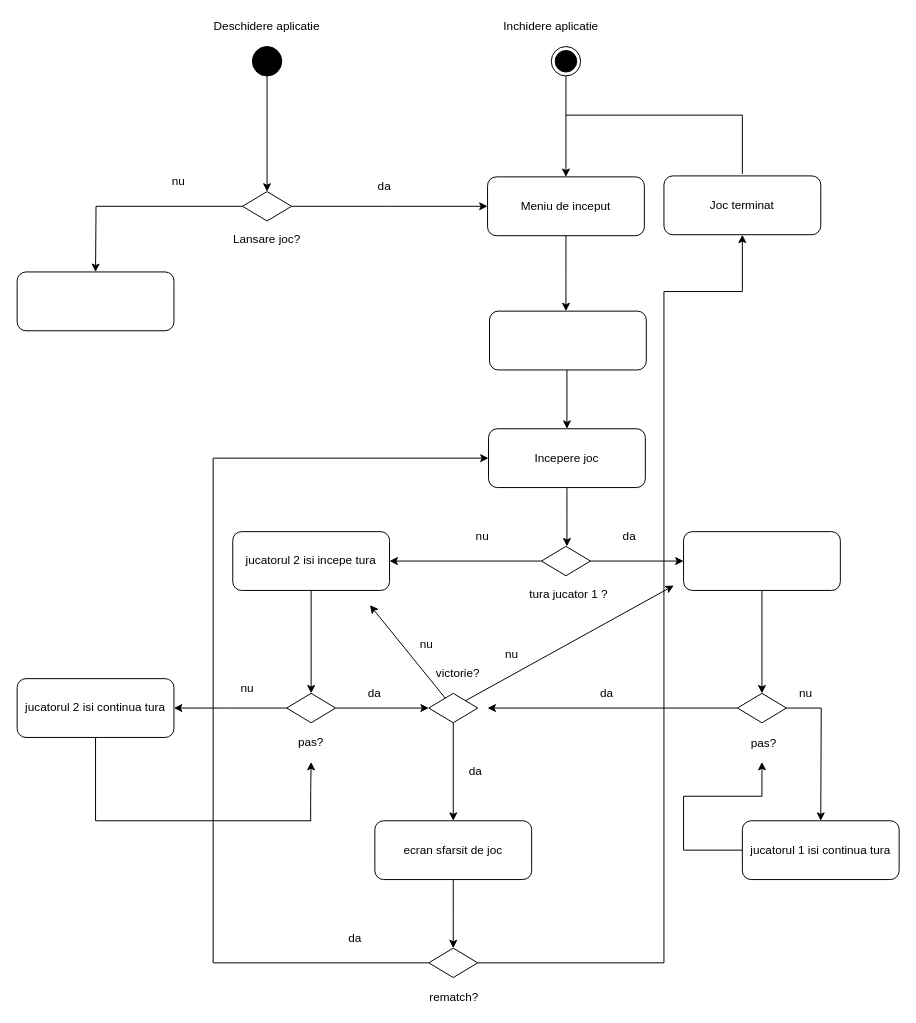
Image size: 916x1023. Some labels were removed from this diagram. The shapes that lost their labels are listed below. From the top down, each one's box as (x1, y1, x2, y2) in pixels, then its label:
(16, 271, 174, 331): Eroare de lansare
(489, 310, 646, 370): Gasire jucator
(683, 531, 840, 590): jucatorul 1 isi incepe tura
